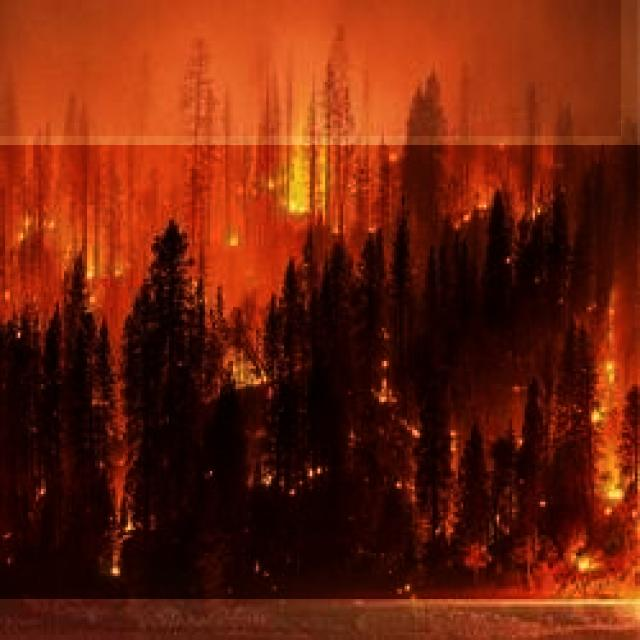Fire: (0, 145, 640, 599)
Smoke: (0, 0, 621, 136)
